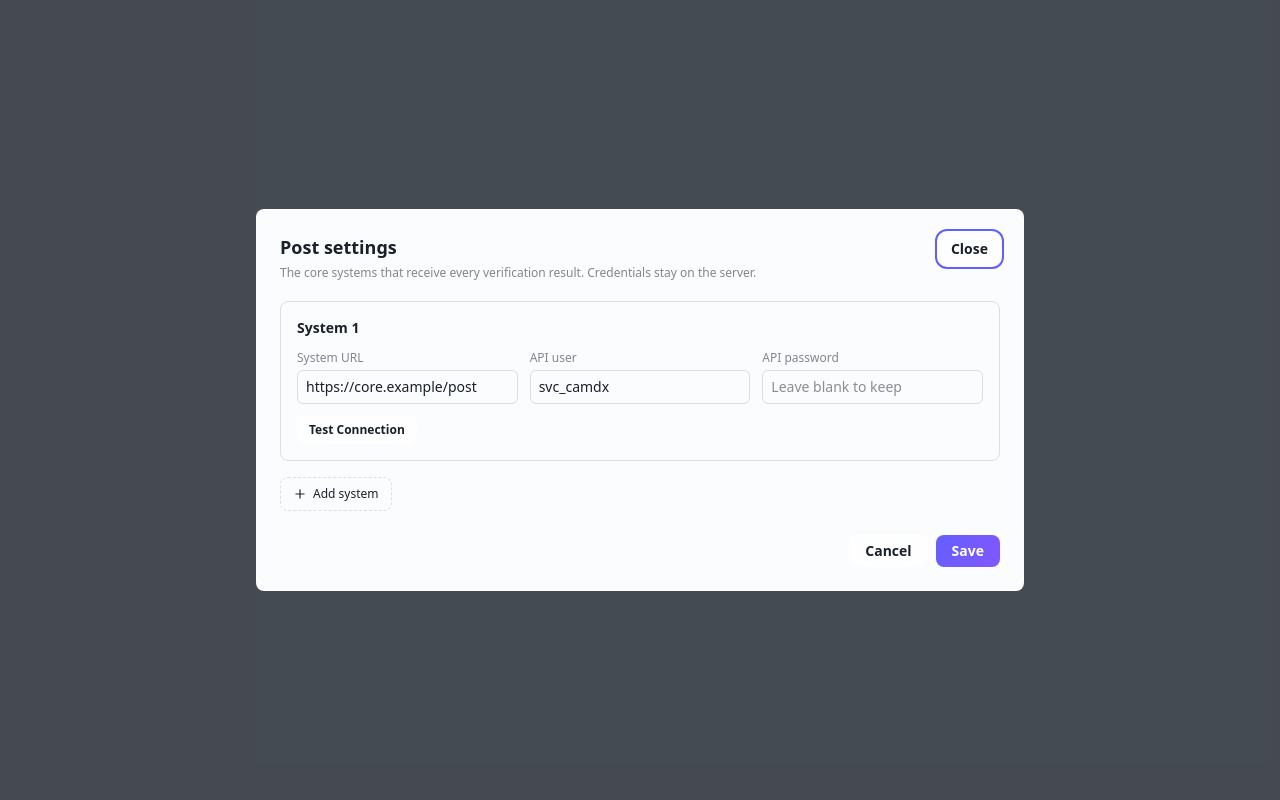
PostSettingsModal › renders a refused URL under its own field, without a duplicate banner
The width and height of the screenshot is (1280, 800).
Expected: the field showing "https://core.example/post" is shown, 297,370 -> 518,404
Click the button "Save".
click(968, 551)  # box 936,535 -> 1000,567
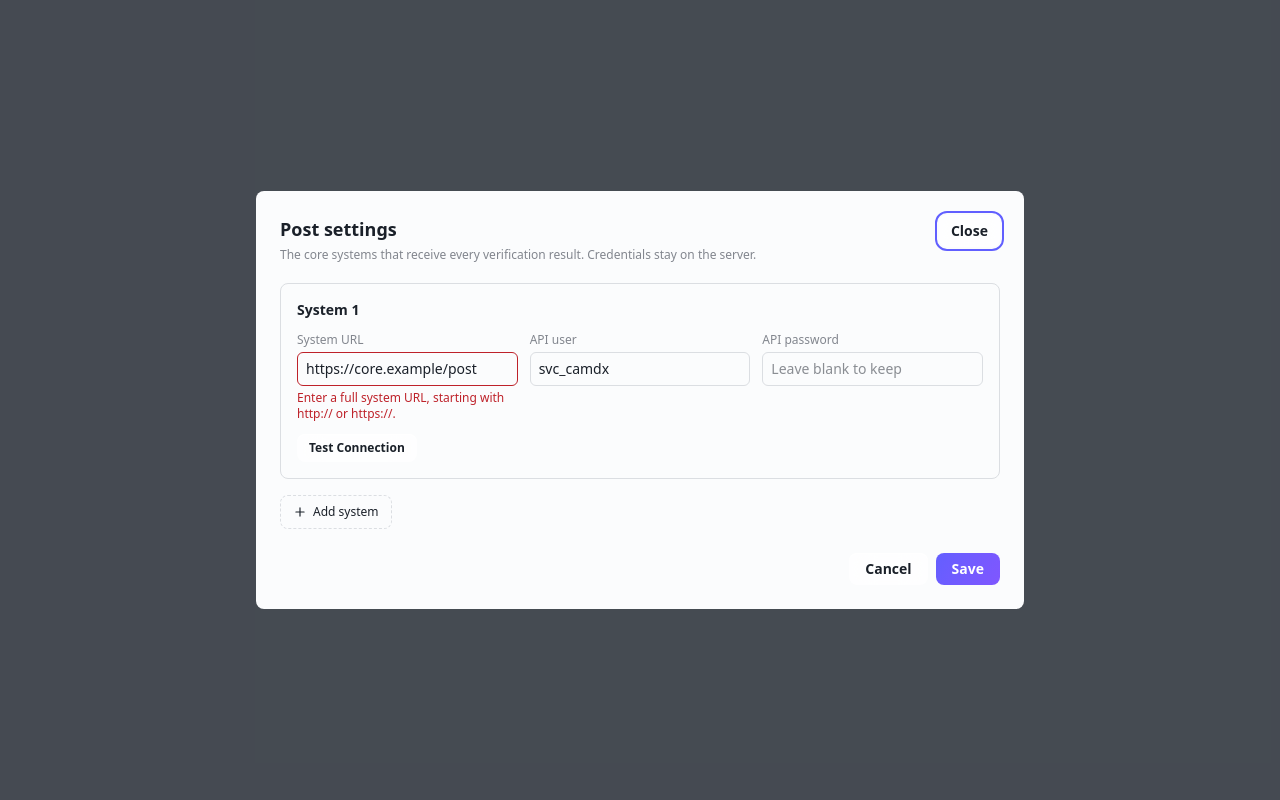
Now the text "Enter a full system URL, starting with http:// or https://." is shown, box 297,390 -> 518,422
